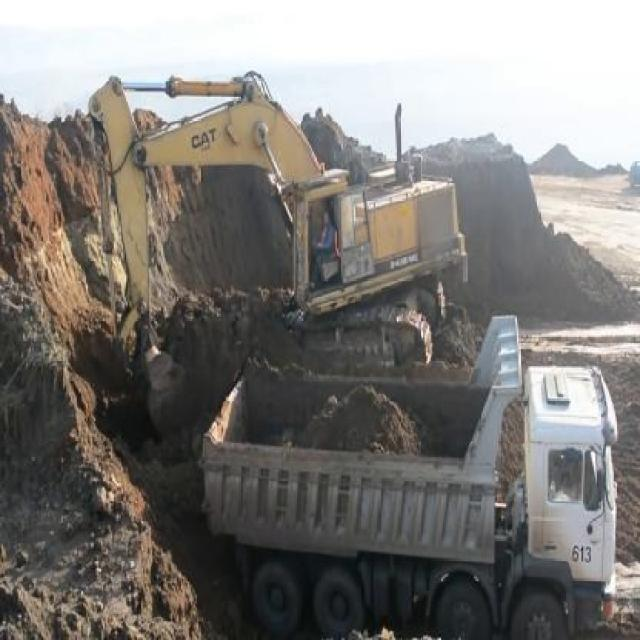dump_truck: (202, 313, 621, 638)
excavator: (79, 70, 464, 412)
